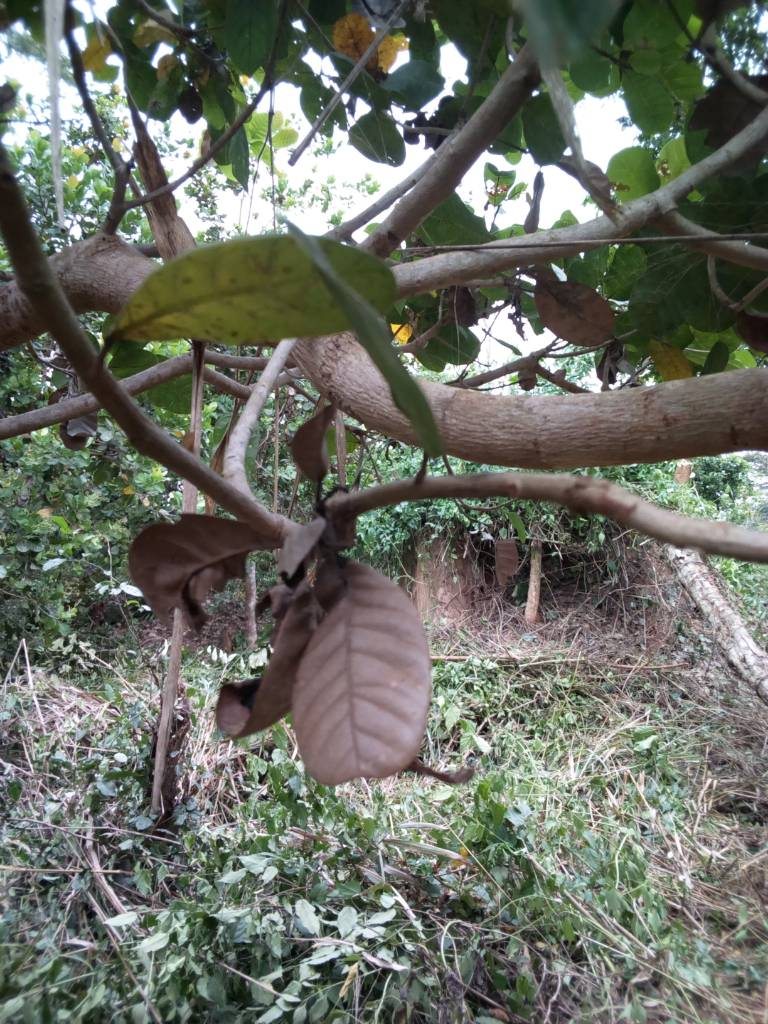Anthracnose: (100, 232, 400, 349)
